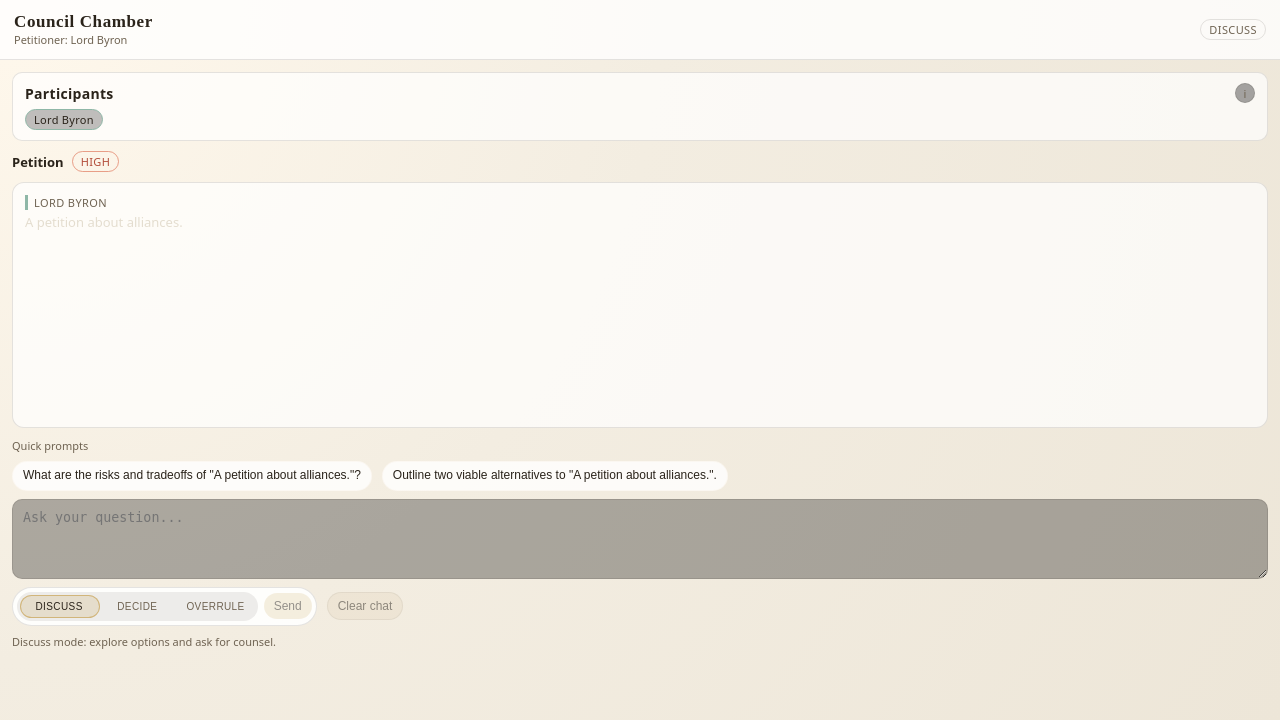
ChatPanel › fills a context-aware quick prompt
This screenshot has width=1280, height=720.
Expected: the heading "Council Chamber" is shown, [14,12,153,32]
Click the button "What are the risks and tradeoffs of \"A petition about alliances.\"?": (192, 476) [12,461,372,491]
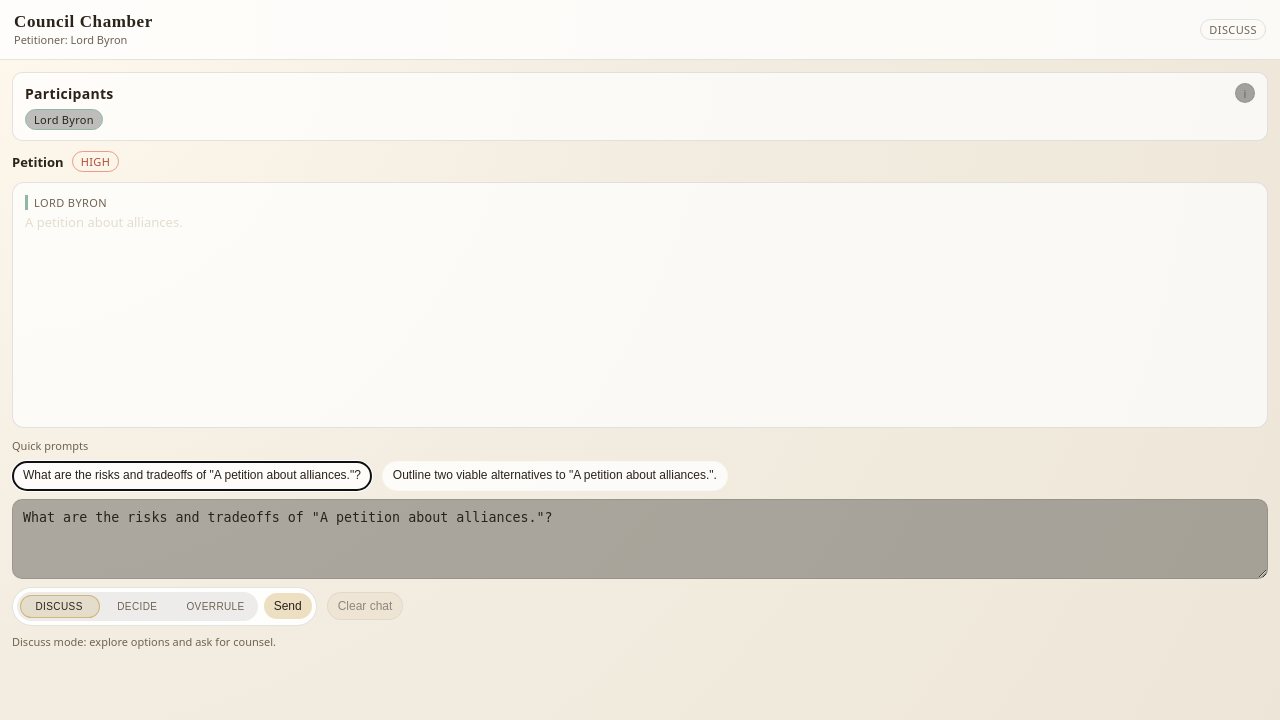
Expected: the text box holds "What are the risks and tradeoffs of \"A petition about alliances.\"?", [12,499,1268,579]
